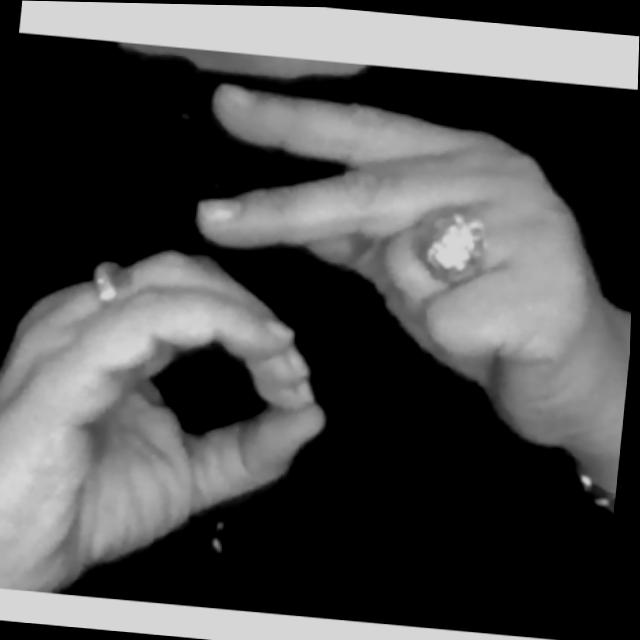O--: (0, 62, 638, 640)
